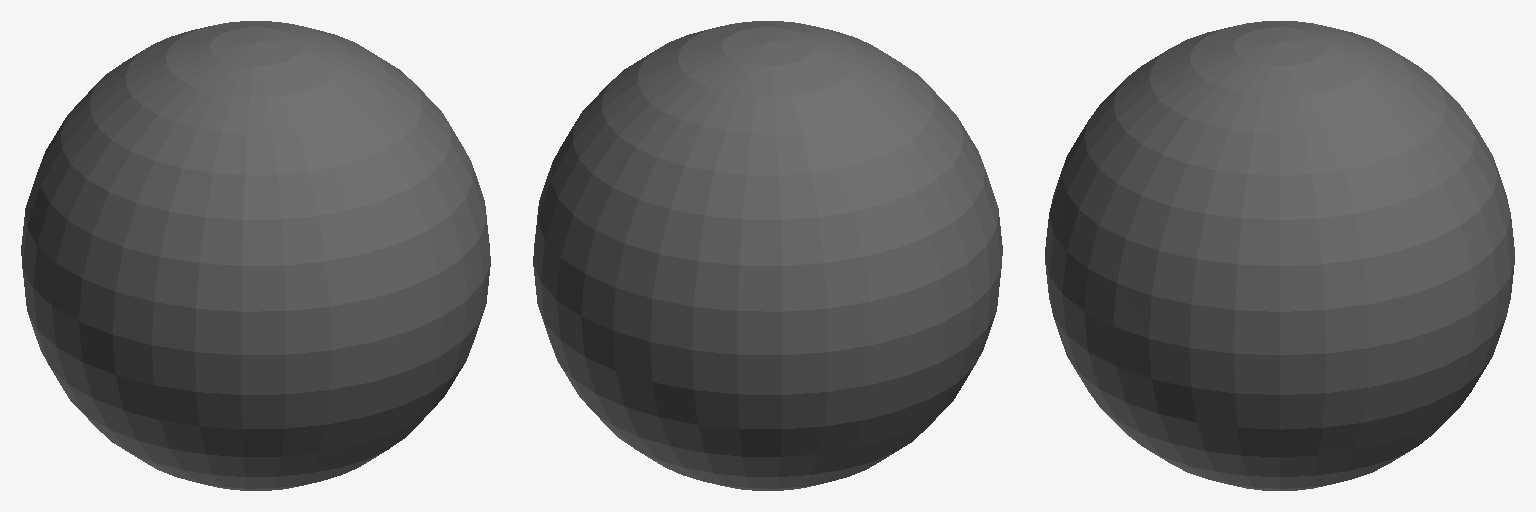
Rendered from bal1.obj.
The picture shows the model from 3 angles: view 1: azimuth 30°, elevation 25°; view 2: azimuth 150°, elevation 25°; view 3: azimuth 270°, elevation 25°; orthographic projection.
Parts seen in each view (by area): view 1: Sphere001; view 2: Sphere001; view 3: Sphere001.
Boxes of the visible parts, x1=… form: Sphere001: x1=21, y1=21, x2=490, y2=490; Sphere001: x1=533, y1=21, x2=1002, y2=490; Sphere001: x1=1045, y1=21, x2=1514, y2=490.
Size of the model in its own units: 61.17 by 61.17 by 61.17.